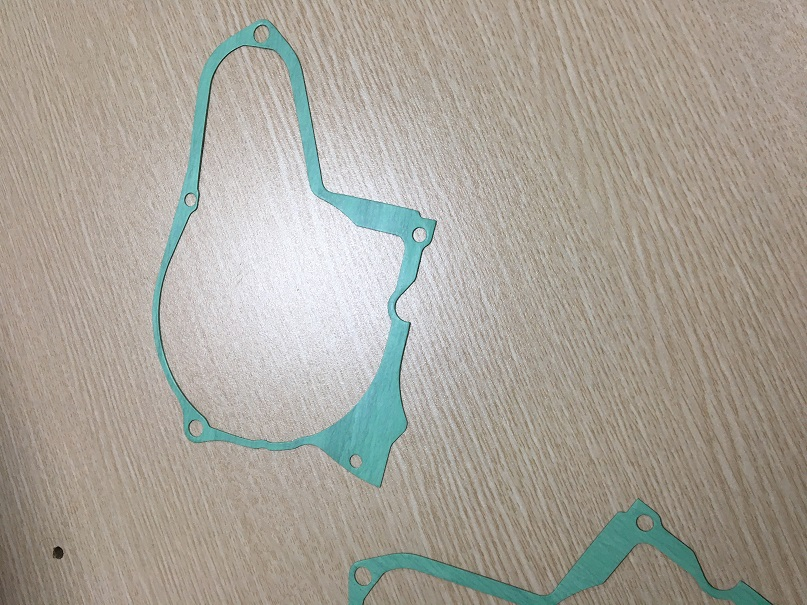type1: (141, 13, 446, 499), (346, 500, 783, 604)
